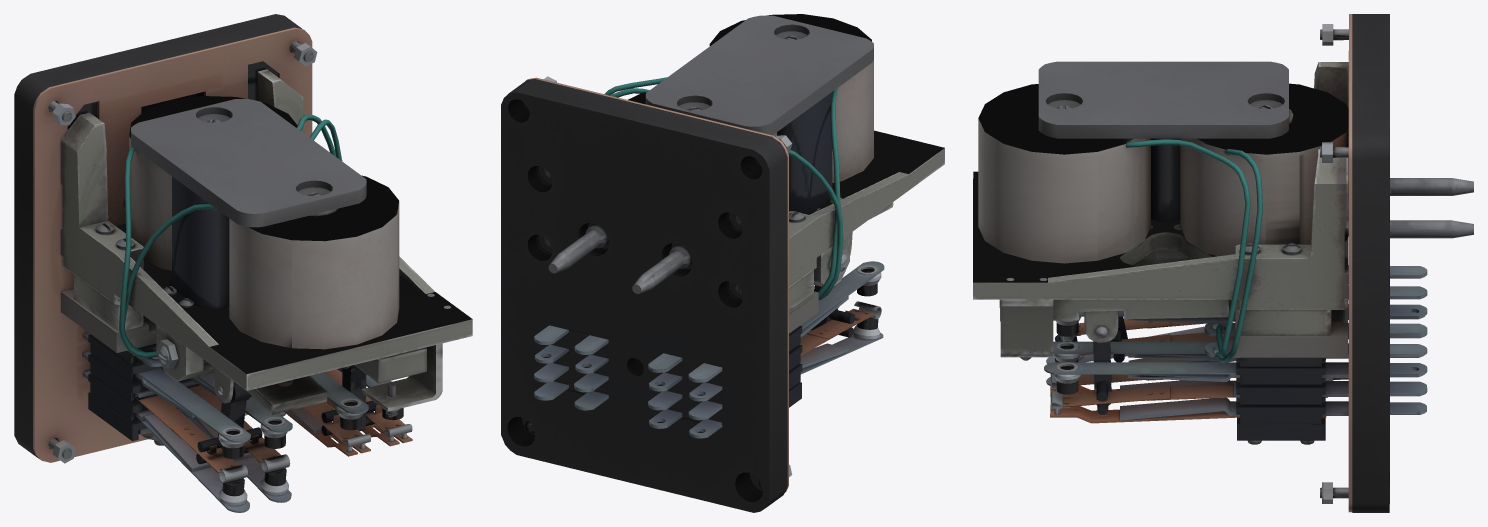
Rendered from kmsh_A2_A-B.fbx.
3 views of the same model, side by side, from view 1: azimuth 30°, elevation 25°; view 2: azimuth 150°, elevation 25°; view 3: azimuth 270°, elevation 25° (orthographic). The views are drawn at different scales.
Visible parts, largest first — view 1: kmsh, kont_L, mandula_L, kont_R, mandula_R, pimp_L, pimp_R; view 2: kmsh, kont_L, pimp_L; view 3: kmsh, mandula_R, kont_R, kont_L, pimp_R.
Boxes of the visible parts, x1,y1,x2,y2 form: kmsh: [14, 14, 472, 512]; kont_L: [134, 384, 290, 482]; mandula_L: [203, 360, 327, 414]; kont_R: [303, 369, 412, 447]; mandula_R: [342, 347, 426, 383]; pimp_L: [196, 382, 262, 464]; pimp_R: [321, 365, 382, 435]; kmsh: [501, 14, 944, 512]; kont_L: [799, 301, 881, 355]; pimp_L: [810, 285, 854, 337]; kmsh: [973, 14, 1473, 512]; mandula_R: [999, 299, 1231, 342]; kont_R: [1050, 374, 1327, 408]; kont_L: [1060, 319, 1235, 356]; pimp_R: [1093, 341, 1111, 414].
Bounding box in the file's own units: 0.0696 × 0.0898 × 0.1079.
